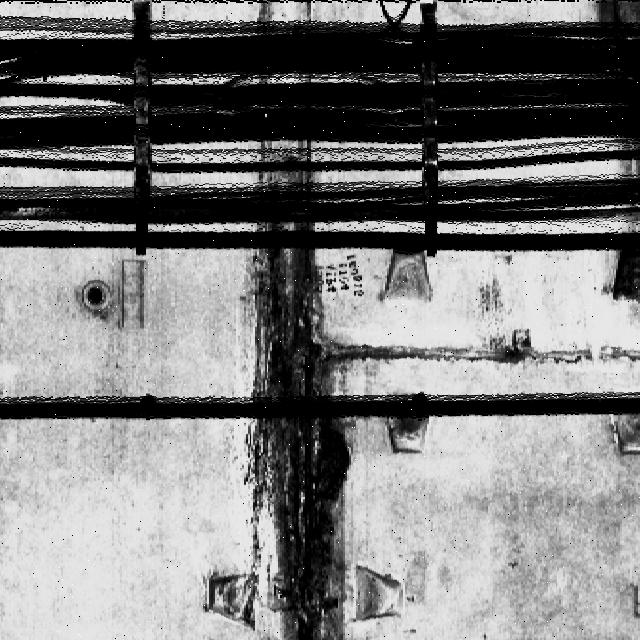leakage: (227, 160, 355, 640)
